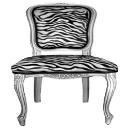chair_success: (4, 0, 120, 128)
